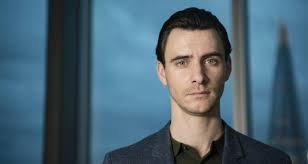Sober: (164, 34, 225, 108)
